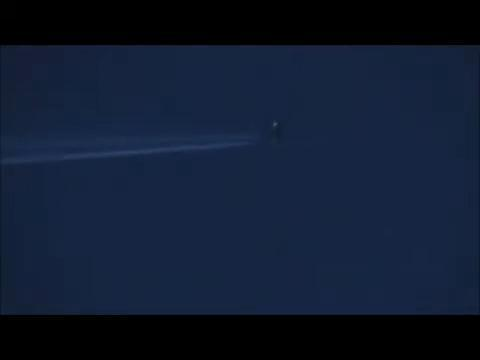Plane: (0, 106, 328, 186)
